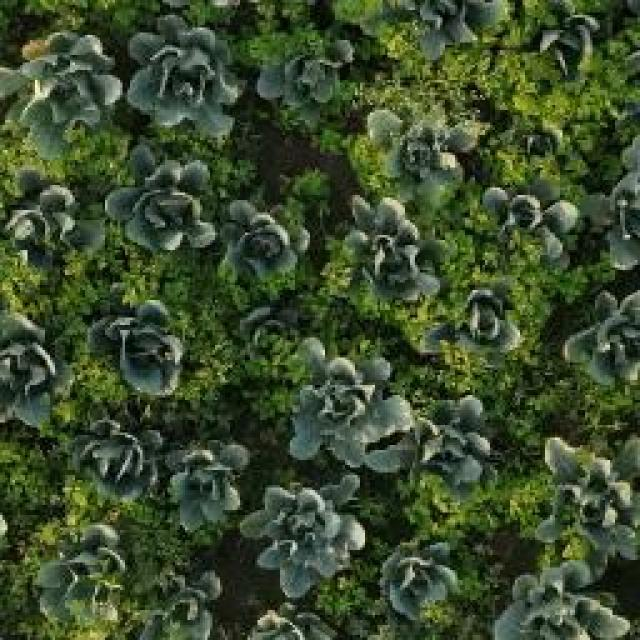cabbage: (289, 350, 408, 468), (0, 34, 120, 145), (110, 140, 220, 258), (142, 425, 252, 543), (138, 20, 244, 140), (541, 433, 640, 558), (249, 488, 365, 594), (364, 97, 485, 191), (490, 568, 629, 640), (403, 386, 500, 488), (343, 203, 438, 299), (33, 526, 123, 622), (0, 175, 91, 267), (480, 179, 577, 260), (0, 316, 66, 431), (98, 309, 188, 392), (70, 417, 162, 497), (260, 34, 352, 112), (530, 1, 622, 77), (567, 290, 640, 384), (225, 207, 305, 290), (442, 290, 529, 366), (378, 542, 462, 618), (396, 0, 500, 55), (141, 572, 222, 640), (233, 302, 302, 355)
